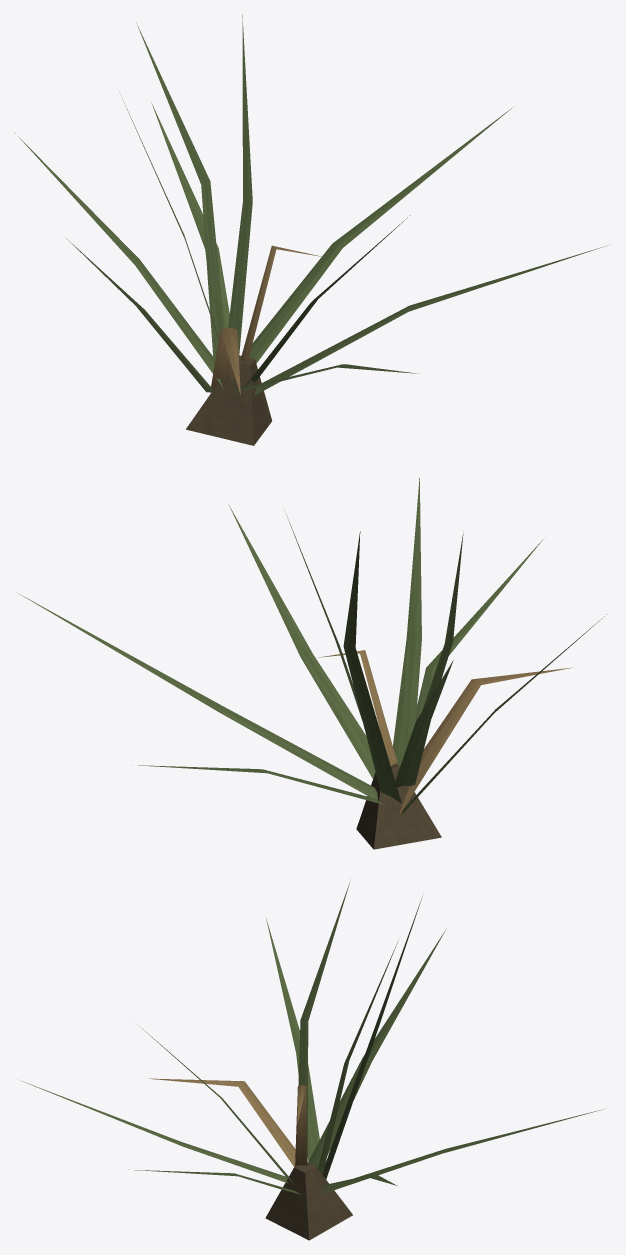
File: SM_CN_Yucca_A_LOD2.glb
3 views of the same model, one above another, from view 1: azimuth 30°, elevation 25°; view 2: azimuth 150°, elevation 25°; view 3: azimuth 270°, elevation 25° (orthographic). The views are drawn at different scales.
Visible parts, largest first — view 1: SM_CN_Yucca_A_LOD2; view 2: SM_CN_Yucca_A_LOD2; view 3: SM_CN_Yucca_A_LOD2.
Boxes of the visible parts, bbox=[...] form: SM_CN_Yucca_A_LOD2: bbox=[14, 14, 607, 445]; SM_CN_Yucca_A_LOD2: bbox=[16, 478, 606, 849]; SM_CN_Yucca_A_LOD2: bbox=[22, 881, 604, 1240].
Bounding box in the file's own units: 1.17 × 0.78 × 1.32.
2 materials, 2 textured.
